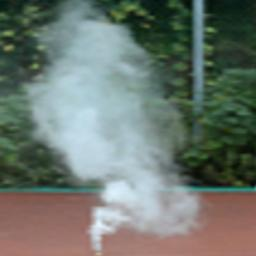smoke: (24, 0, 198, 249)
